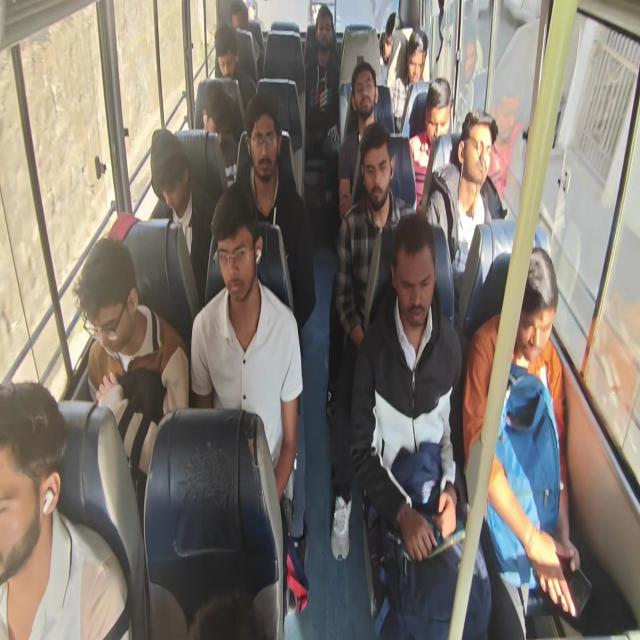person: (4, 342, 64, 581), (66, 230, 146, 353), (502, 234, 562, 362), (207, 182, 261, 314), (389, 212, 443, 330), (146, 118, 198, 219), (452, 100, 498, 190), (352, 131, 402, 212), (242, 100, 284, 176), (194, 83, 236, 153), (421, 71, 452, 146), (350, 65, 386, 125), (212, 18, 244, 80), (396, 24, 430, 80), (379, 9, 407, 60), (312, 2, 336, 57), (228, 0, 254, 31)
